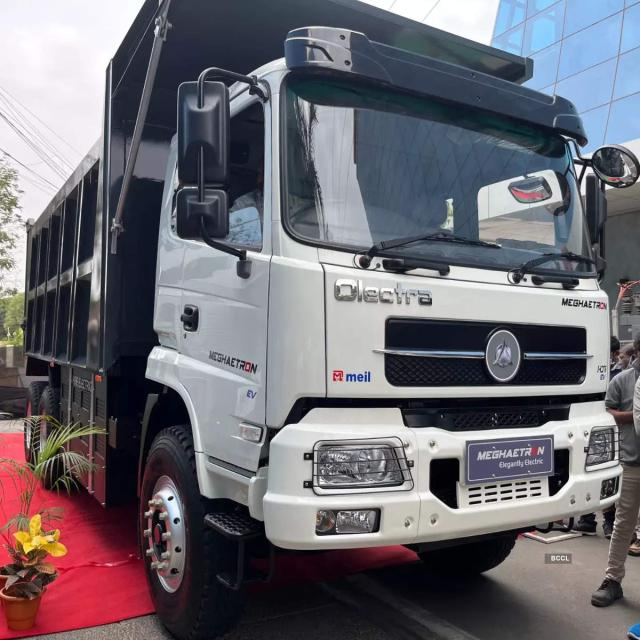truck: (25, 0, 640, 640)
